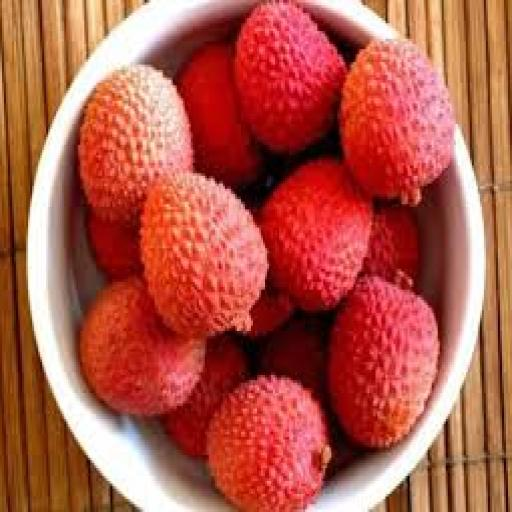lychee: (141, 174, 267, 336), (340, 39, 455, 204), (328, 277, 439, 447), (79, 65, 192, 224), (81, 277, 204, 416), (260, 158, 371, 310), (207, 375, 331, 511), (235, 0, 345, 152), (177, 44, 261, 188), (163, 337, 248, 457), (260, 319, 327, 398), (364, 207, 419, 284), (87, 213, 142, 279), (247, 285, 295, 338)
